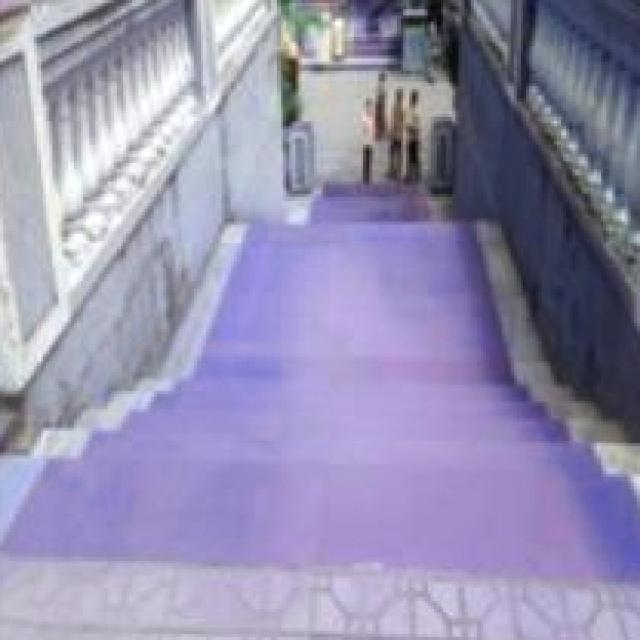downstair: (149, 346, 549, 524)
